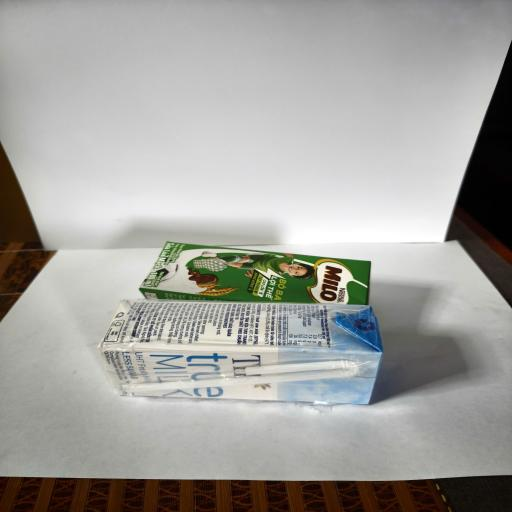milo: (139, 241, 371, 305)
